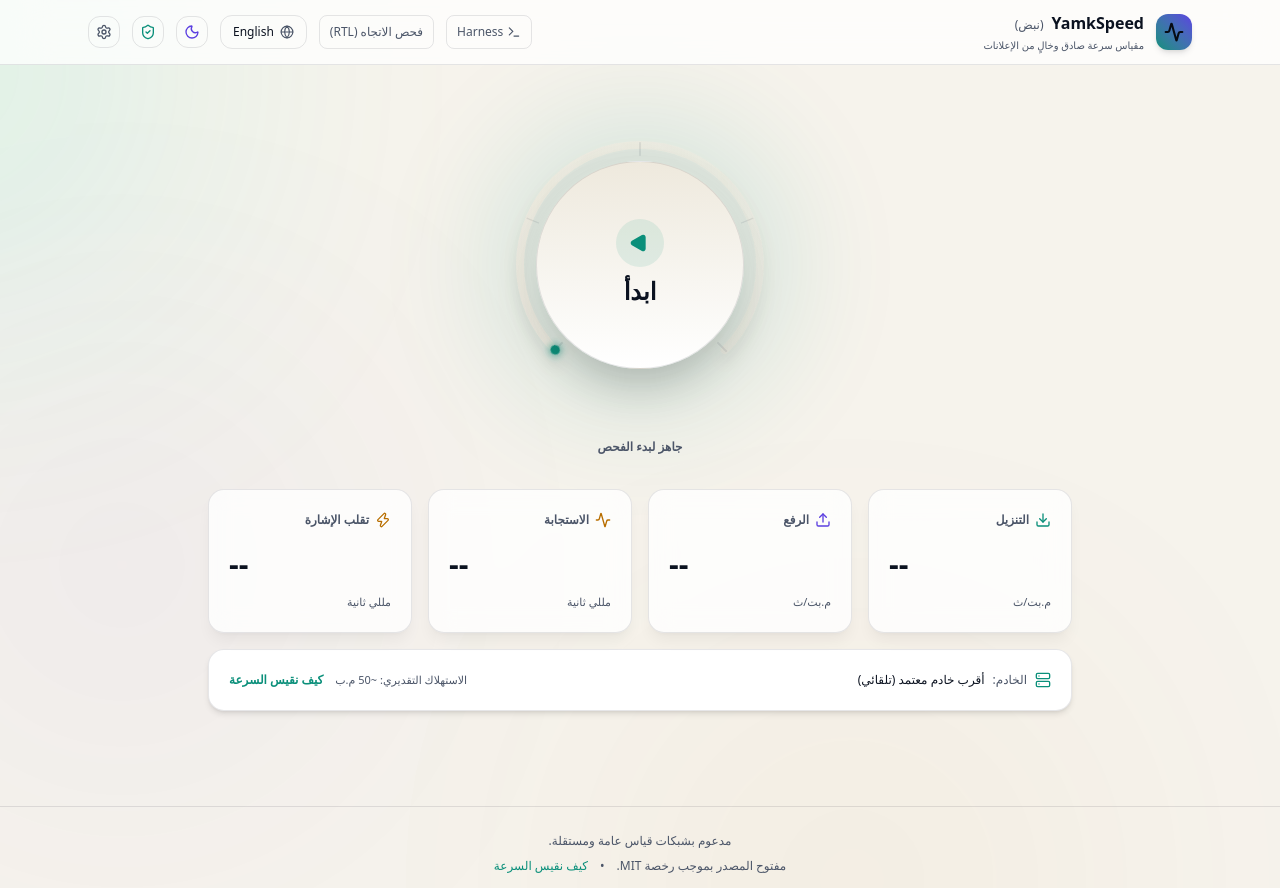
Test: App Smoke & Integration Test › switches to RTL audit page when audit button is clicked
Click the button "فحص الاتجاه (RTL)". click: [376, 32]
box: 319,15 -> 434,49
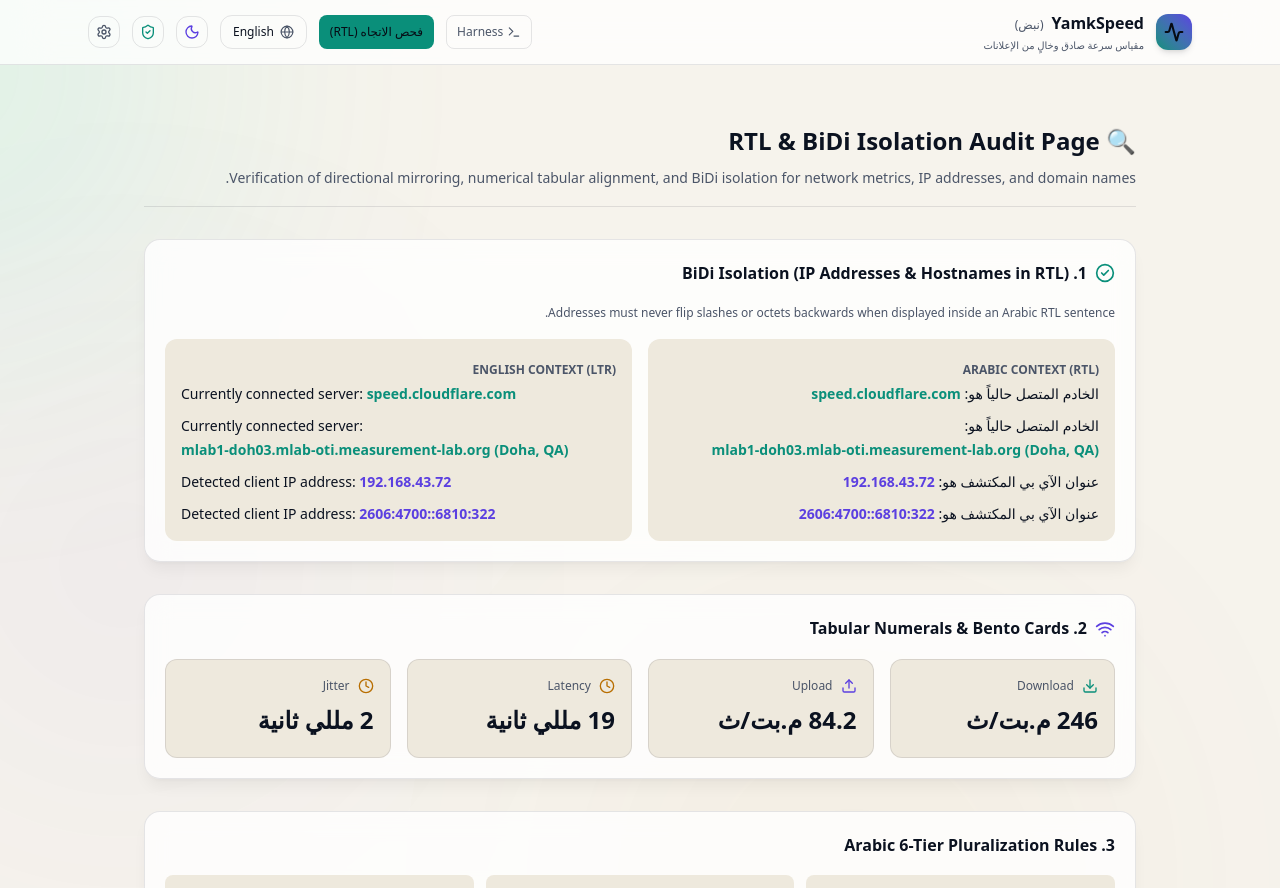
expect the heading "🔍 RTL & BiDi Isolation Audit Page" is shown: met, box 728,124 -> 1136,157
